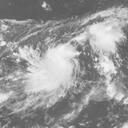cyclone: (22, 42, 79, 96)
